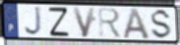A: (122, 7, 152, 40)
J: (24, 6, 44, 37)
R: (97, 7, 124, 39)
S: (149, 8, 173, 41)
V: (71, 6, 97, 39)
Z: (47, 6, 71, 37)
